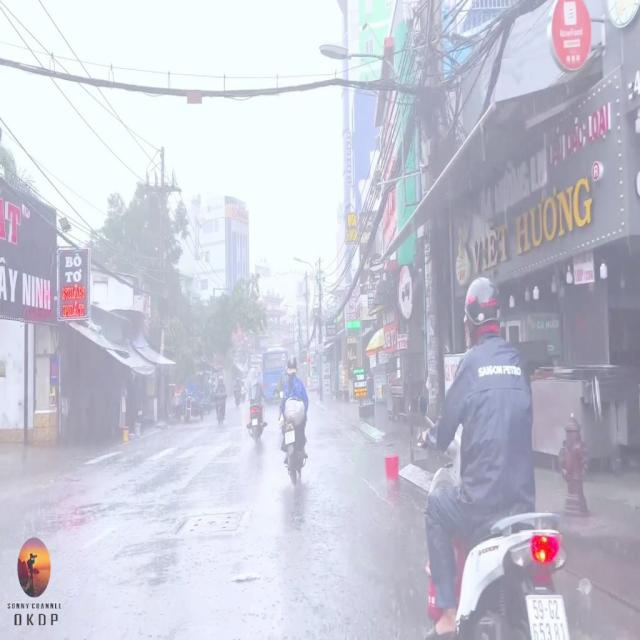cam_o_to_tai: (397, 262, 413, 320)
